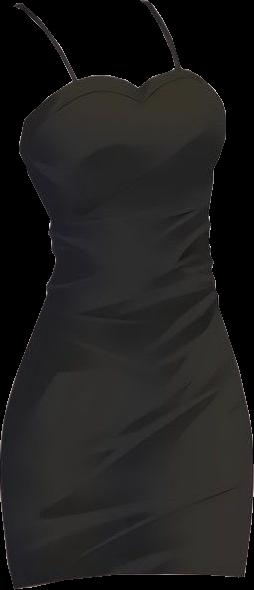Bodice: (14, 0, 225, 248)
Hemline: (12, 567, 246, 589)
Neckline: (18, 0, 180, 91)
Skirt: (1, 250, 252, 587)
